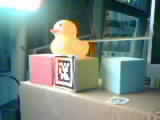duck: (42, 16, 90, 56)
